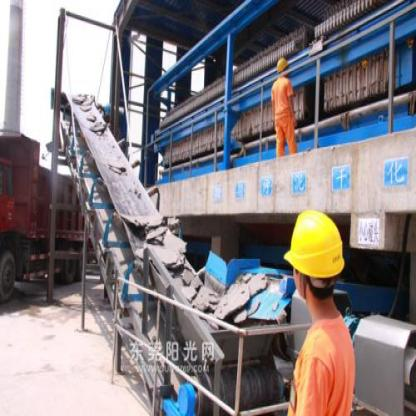helmet: (279, 202, 346, 310), (274, 54, 293, 82)
